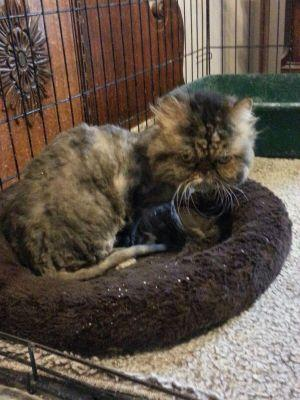persian: (136, 90, 269, 207)
